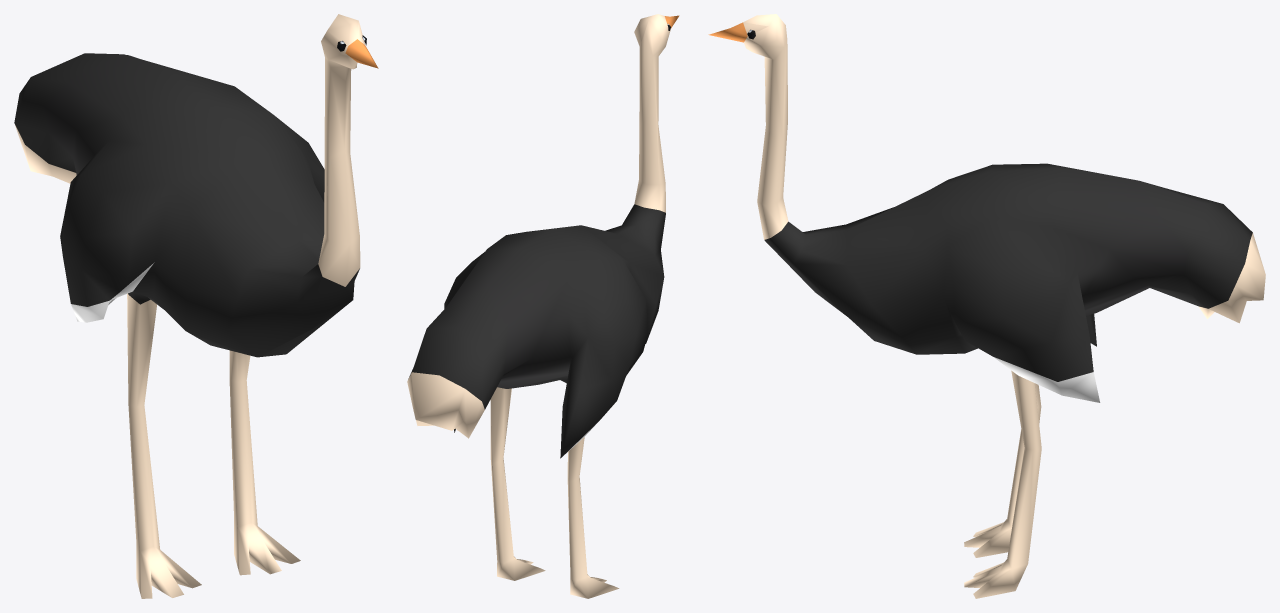
The model's file is Ostrich.glb.
The picture shows the model from 3 angles, left to right: view 1: azimuth 30°, elevation 25°; view 2: azimuth 150°, elevation 25°; view 3: azimuth 270°, elevation 25°; orthographic projection. The views are drawn at different scales.
Visible parts, largest first — view 1: Ostrich; view 2: Ostrich; view 3: Ostrich.
Boxes of the visible parts, box(x1,y1,x2,y2) form: Ostrich: box(14, 14, 378, 598); Ostrich: box(407, 14, 679, 598); Ostrich: box(708, 14, 1265, 598).
Size of what is drawn, in the model's own units: 0.842 by 2.24 by 2.05.
Materials: 1 (1 with a texture image).
